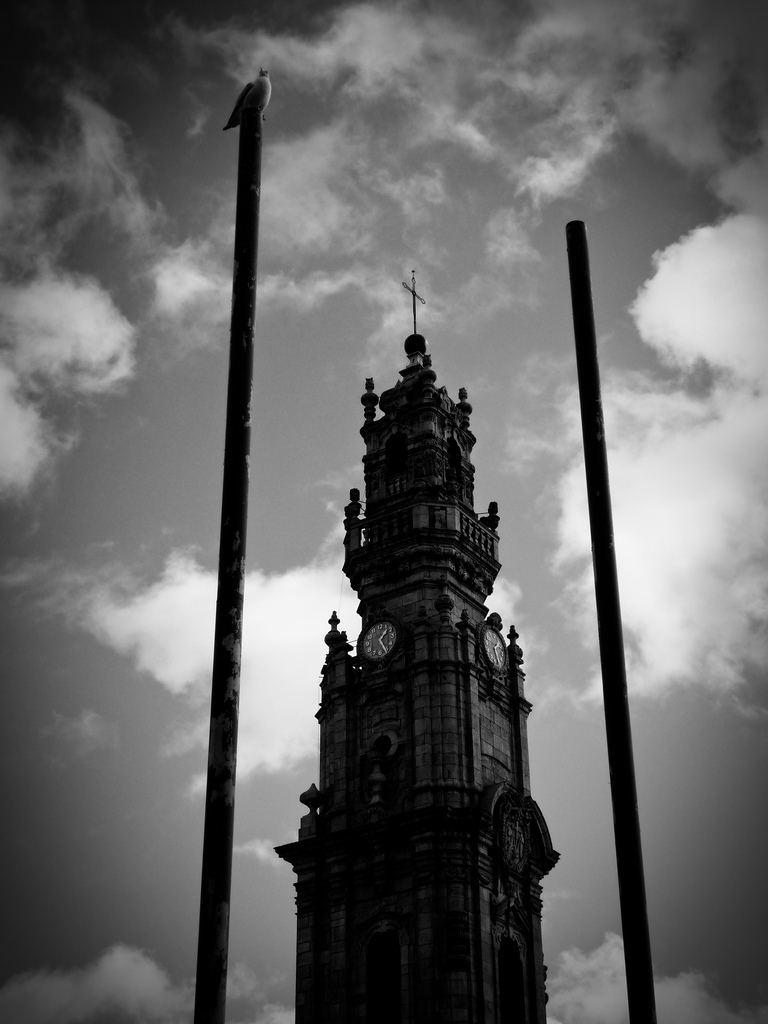clerigos: (267, 264, 564, 1023)
